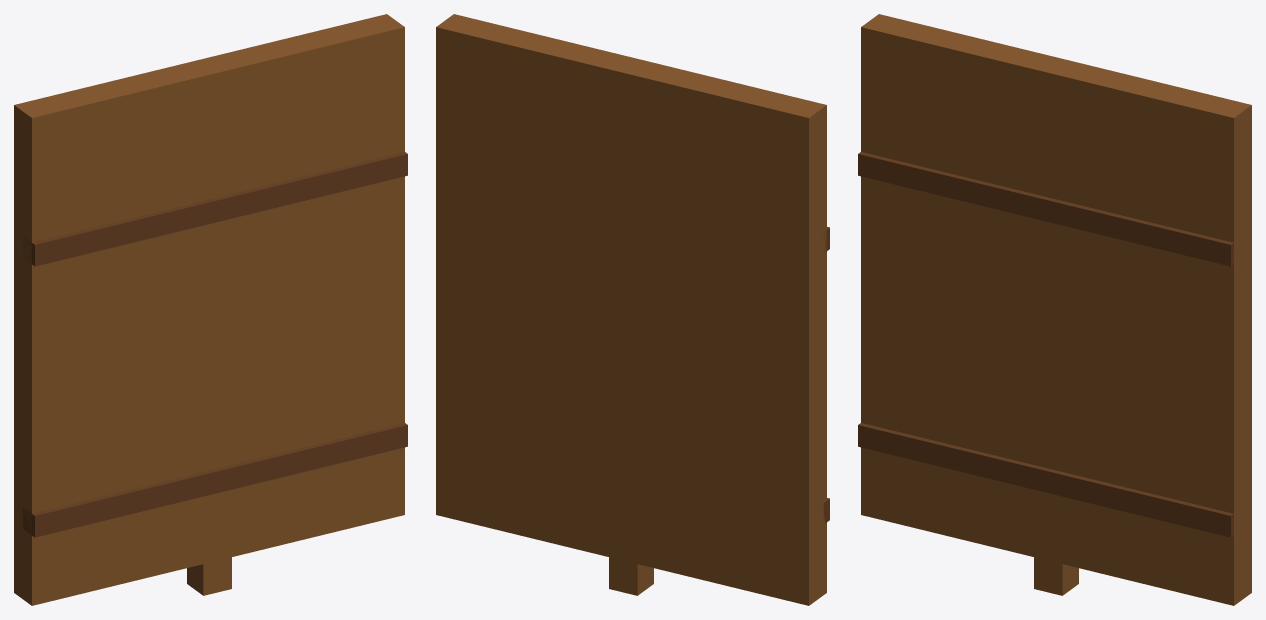
File: back.glb
The picture shows the model from 3 angles, left to right: view 1: azimuth 30°, elevation 25°; view 2: azimuth 150°, elevation 25°; view 3: azimuth 330°, elevation 25°; orthographic projection.
Bounding box in the file's own units: 0.72 × 0.96 × 0.07.
